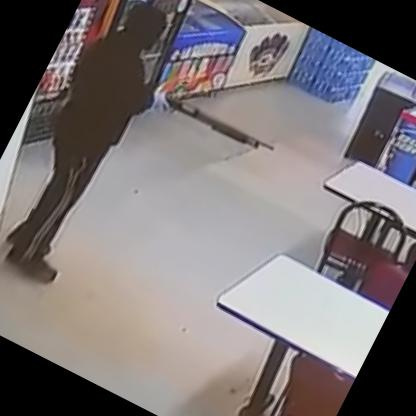Human Body: (0, 0, 219, 306)
